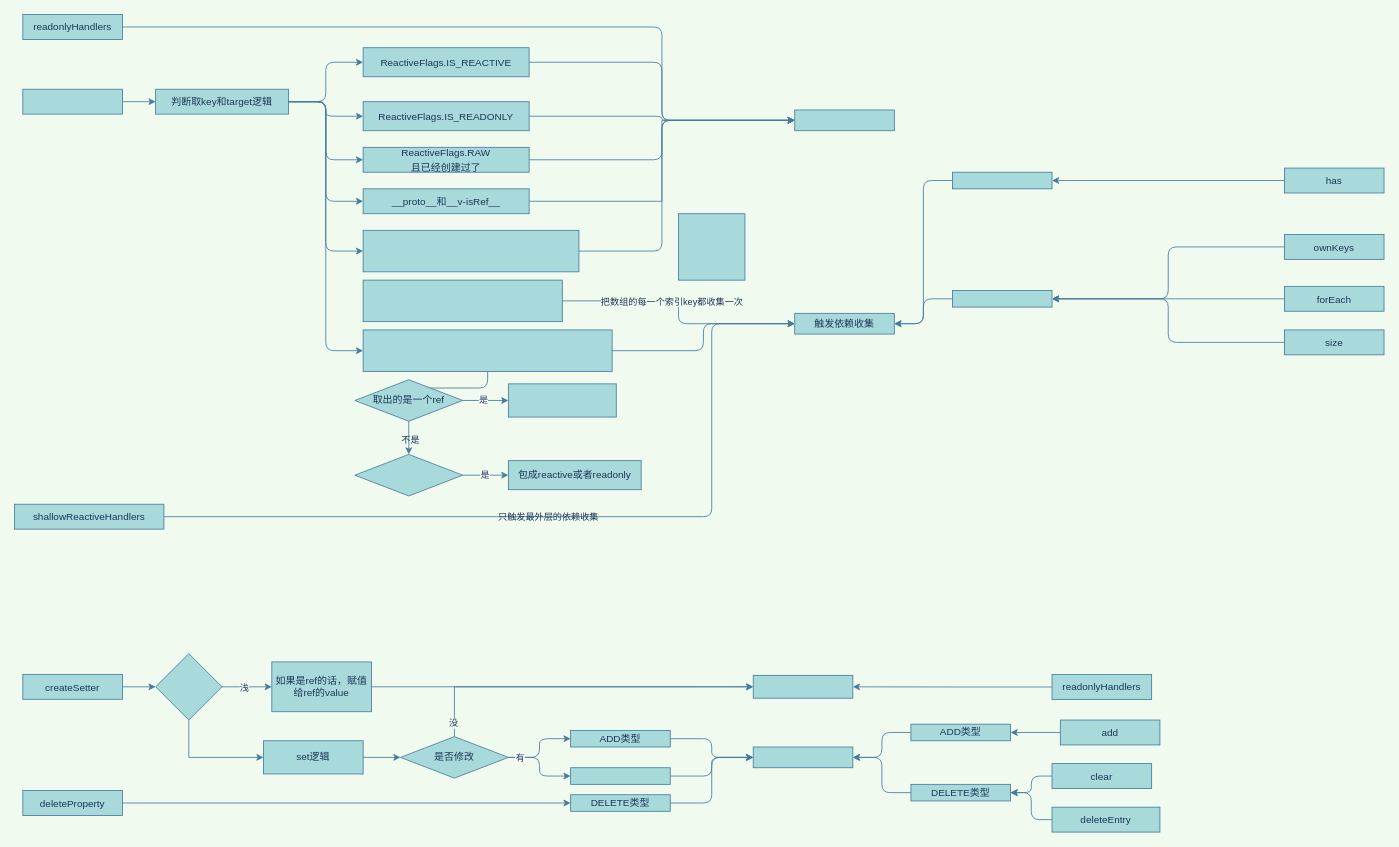
The diagram is 1399 pixels wide and 847 high, and some of its shapes have lost their labels. Here are the shapes that lost their labels. From the top down, the centre of each, then its label:
At (x=72, y=101): "createGetter".
At (x=844, y=120): "不触发依赖收集".
At (x=1002, y=180): "HAS类型".
At (x=470, y=250): "调用的数组的迭代器api，在执行的时候 (push、pop、shift、unshift、splice）".
At (x=711, y=246): "get逻辑".
At (x=462, y=300): "调用的数组的会修改length的api (include、indexOf、lastIndexOf）".
At (x=1002, y=298): "ITERATE类型".
At (x=487, y=350): "在排除上述的情况后不是readOnly的会默认收集一次".
At (x=562, y=400): "自动解开 不适用于一个ref数组".
At (x=408, y=475): "对象".
At (x=188, y=686): "shallow".
At (x=802, y=686): "不触发依赖".
At (x=620, y=775): "SET类型".
At (x=802, y=757): "触发依赖".
